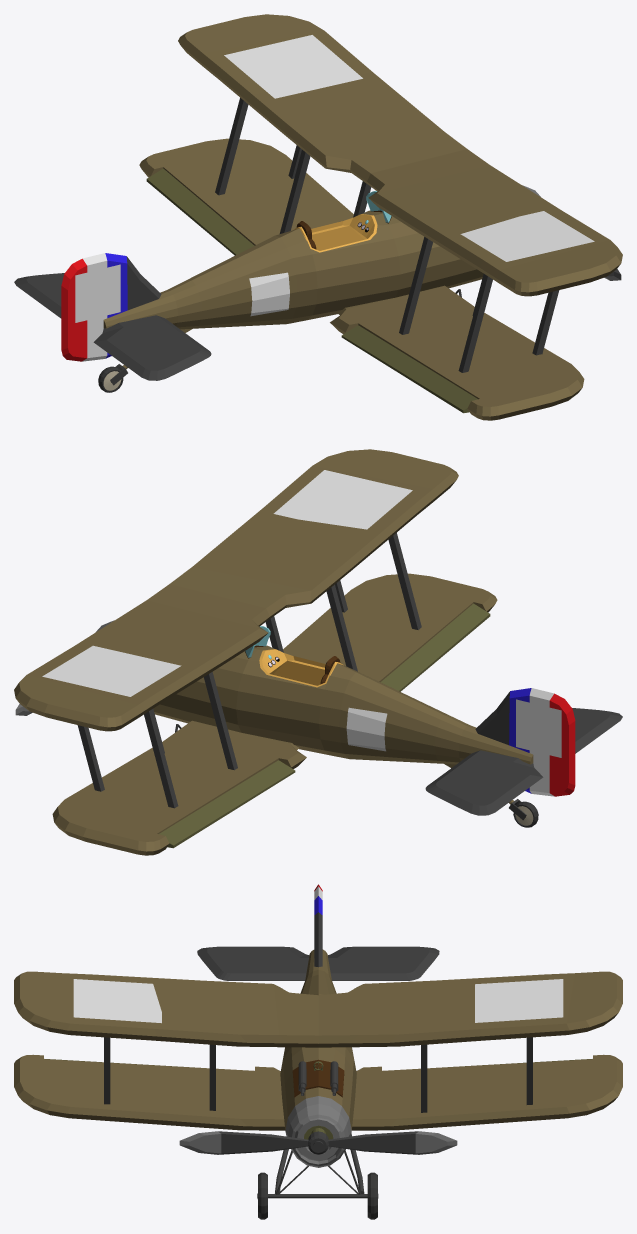
The model's file is WW1 Biplane.fbx.
3 renders of one model, top to bottom at view 1: azimuth 30°, elevation 25°; view 2: azimuth 150°, elevation 25°; view 3: azimuth 270°, elevation 25°, orthographic. The views are drawn at different scales.
Visible parts, largest first — view 1: Biplane, Biplane Wing Decal, Right Wingflap, Left Wingflap, Biplane Tail Decal, Biplane Body Decal; view 2: Biplane, Biplane Wing Decal, Left Wingflap, Right Wingflap, Biplane Tail Decal, Biplane Body Decal; view 3: Biplane, Biplane Wing Decal, Propeller, Biplane Frame, Biplane Wheel.L, Biplane Wheel.R.
Boxes of the visible parts, <box> form: Biplane: <box>14,14,622,420</box>; Biplane Wing Decal: <box>224,35,594,261</box>; Right Wingflap: <box>341,325,477,413</box>; Left Wingflap: <box>146,168,254,255</box>; Biplane Tail Decal: <box>75,264,120,322</box>; Biplane Body Decal: <box>249,272,289,316</box>; Biplane: <box>14,449,622,855</box>; Biplane Wing Decal: <box>42,470,412,696</box>; Left Wingflap: <box>159,760,295,848</box>; Right Wingflap: <box>380,603,490,691</box>; Biplane Tail Decal: <box>516,699,561,757</box>; Biplane Body Decal: <box>346,707,387,751</box>; Biplane: <box>14,884,622,1167</box>; Biplane Wing Decal: <box>73,979,563,1023</box>; Propeller: <box>179,1131,457,1154</box>; Biplane Frame: <box>268,1133,367,1198</box>; Biplane Wheel.L: <box>367,1172,378,1219</box>; Biplane Wheel.R: <box>257,1172,267,1219</box>.
Bounding box in the file's own units: 4629 × 2157 × 5765.
